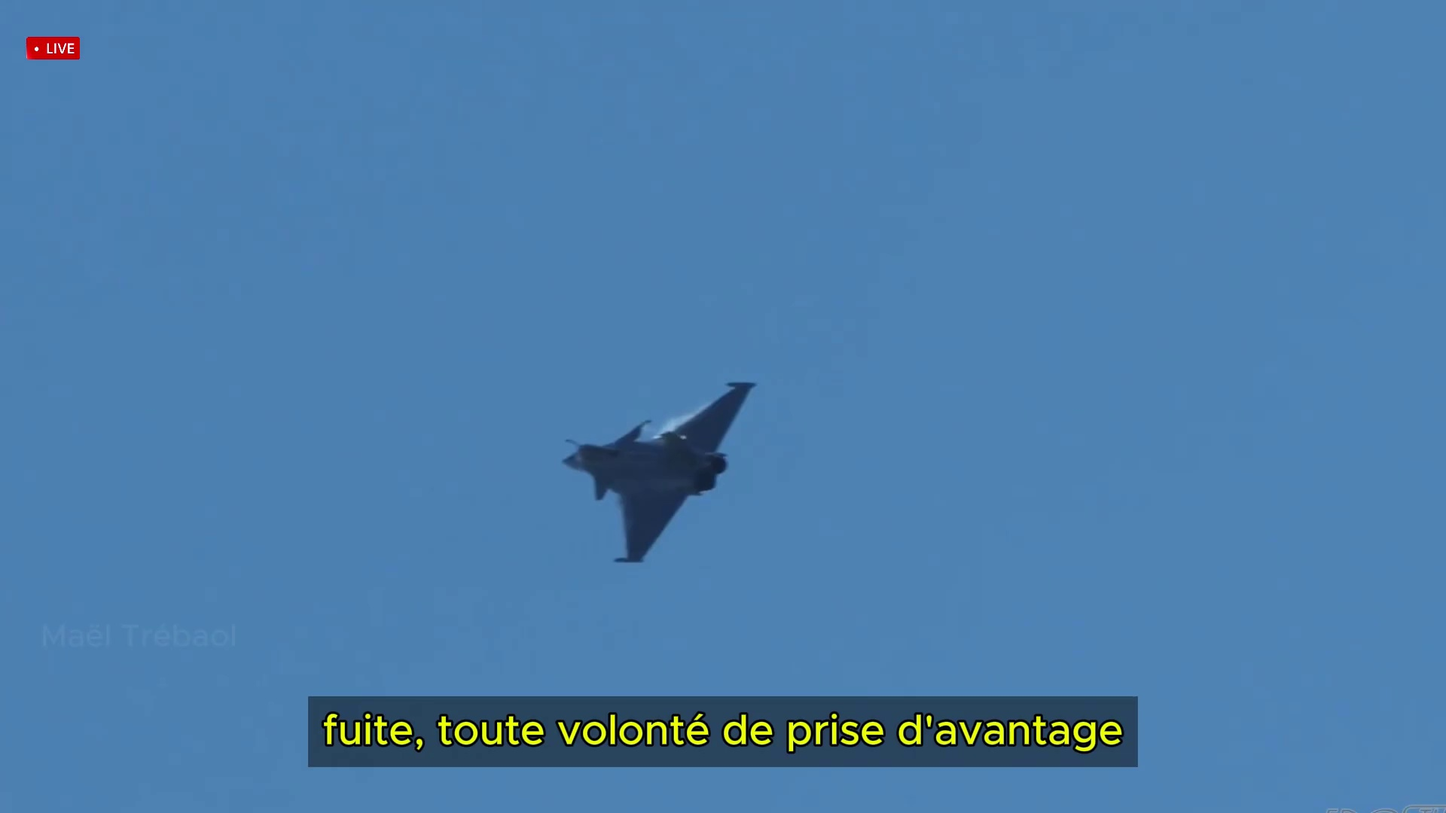Rafale: (560, 382, 754, 564)
